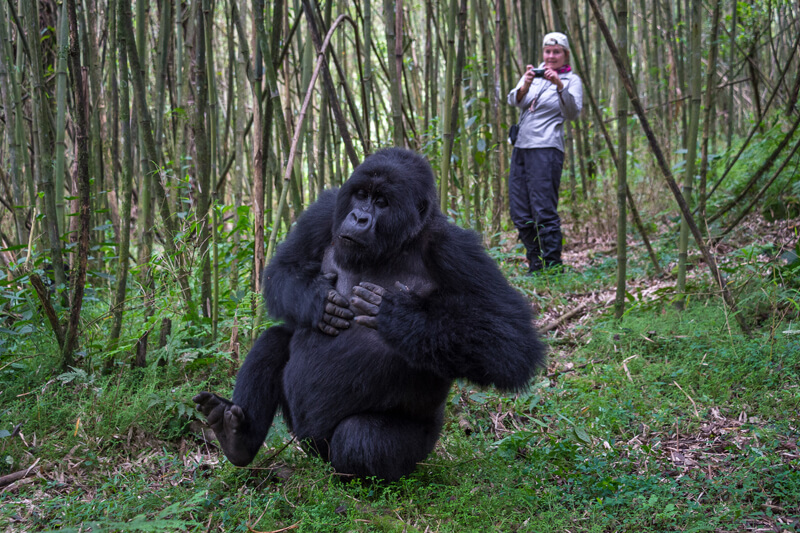Goriila: (194, 99, 553, 502)
